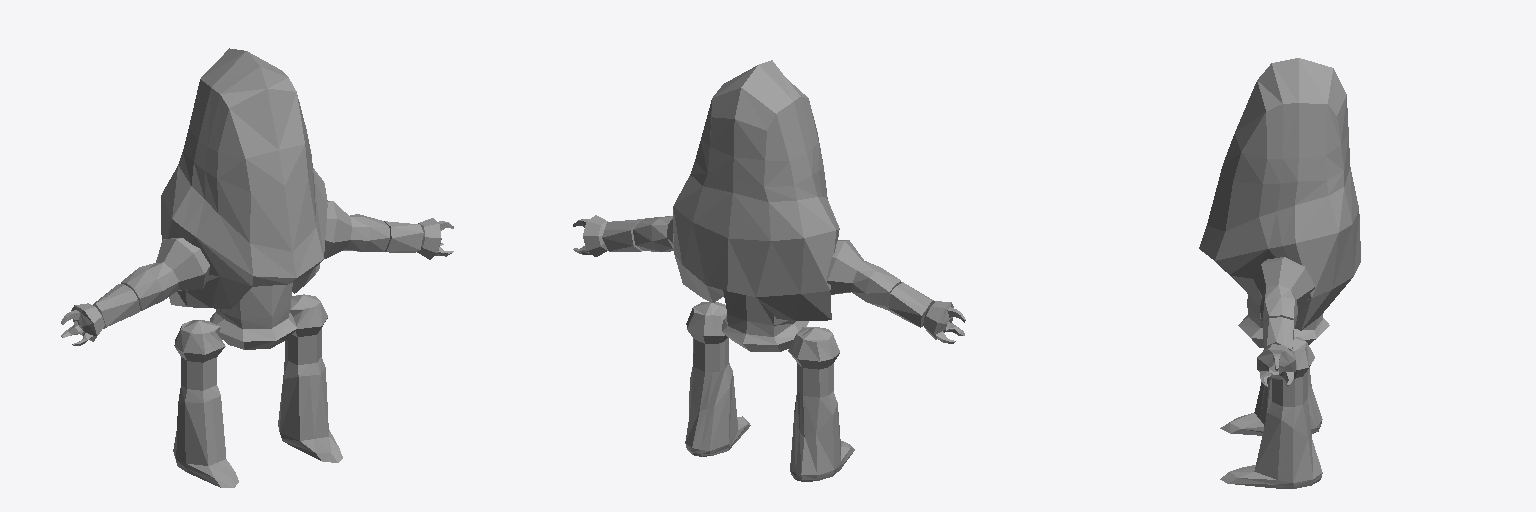
The model's file is Protectron.obj.
3 views of the same model, side by side, from view 1: azimuth 30°, elevation 25°; view 2: azimuth 150°, elevation 25°; view 3: azimuth 270°, elevation 25° (orthographic).
Parts seen in each view (by area): view 1: Remsh_Plane; view 2: Remsh_Plane; view 3: Remsh_Plane.
Part boxes in pixels (left/top/right/bottom): Remsh_Plane: left=61, top=48, right=453, bottom=487; Remsh_Plane: left=573, top=60, right=965, bottom=481; Remsh_Plane: left=1199, top=58, right=1360, bottom=488.
Bounding box in the file's own units: 8.28 × 7.99 × 2.97.